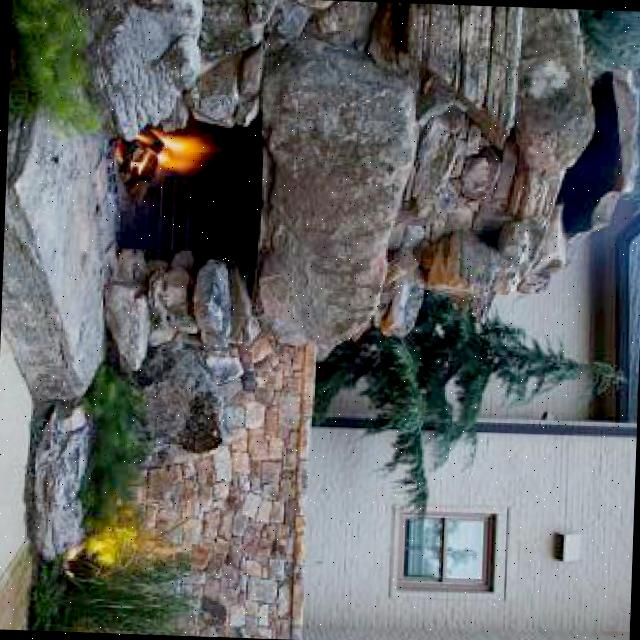fire: (118, 110, 231, 190)
